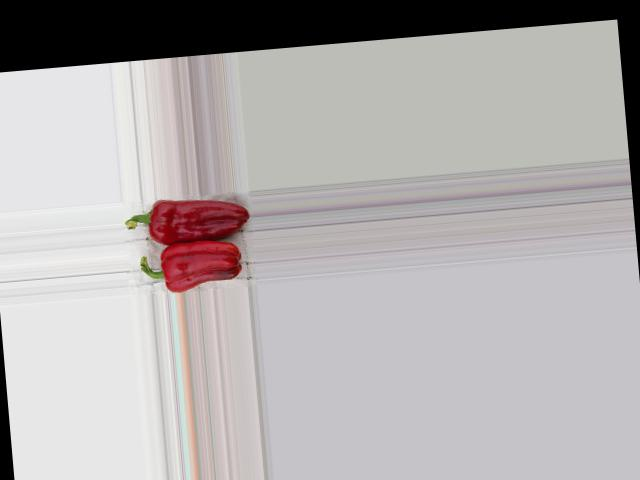bell_pepper: (120, 193, 251, 250)
